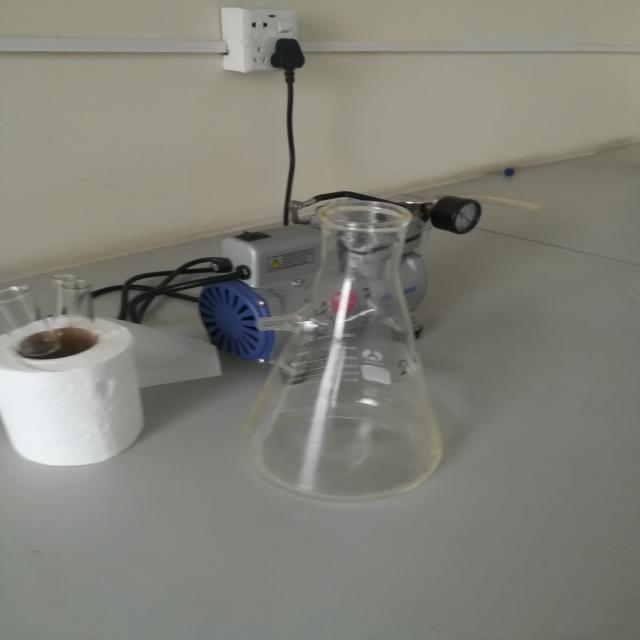Conical_Flask: (222, 181, 500, 524)
